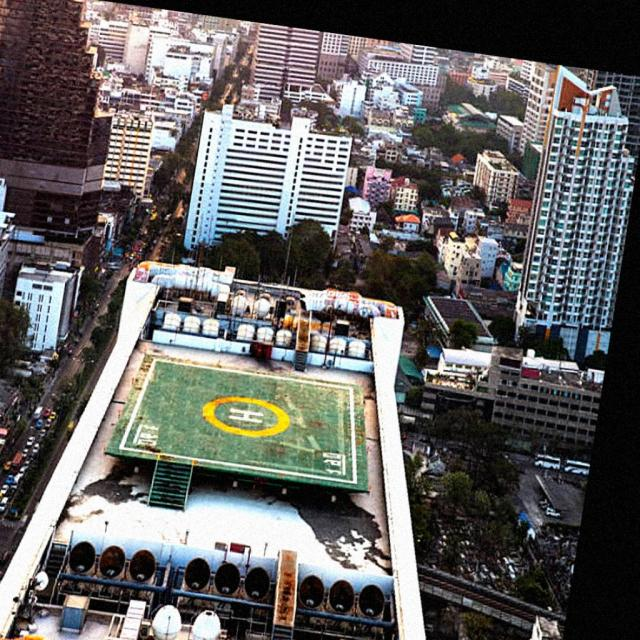helipad: (197, 393, 292, 438)
